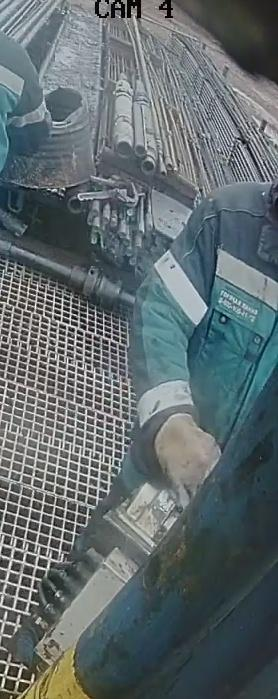gloves: (143, 405, 224, 490)
vest: (153, 180, 277, 452)
